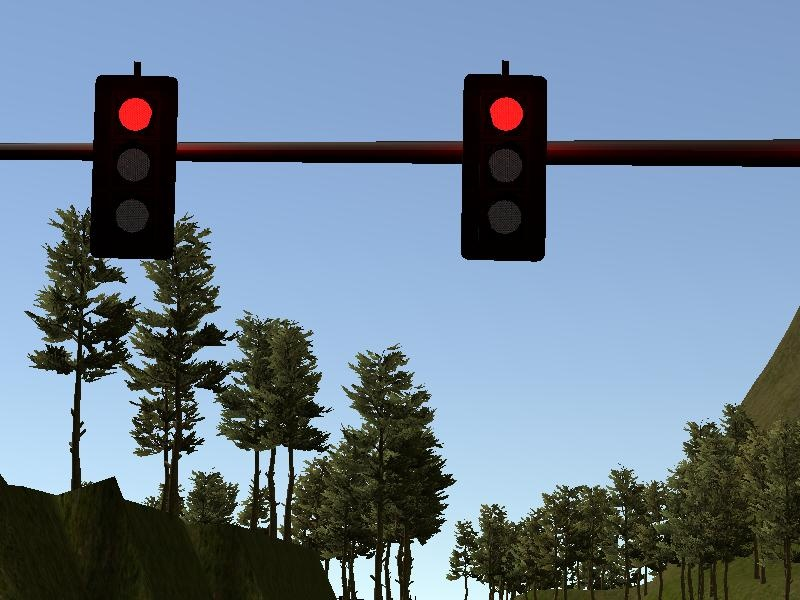red: (454, 71, 547, 264), (88, 73, 178, 266)
